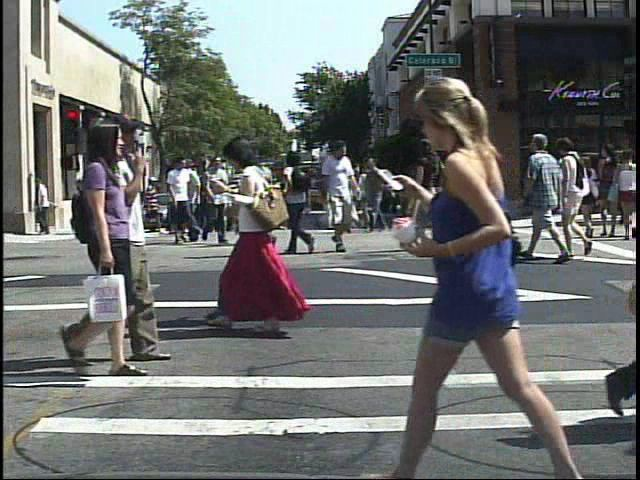person: (359, 65, 589, 480), (43, 109, 154, 385), (210, 134, 304, 335), (112, 108, 167, 372), (244, 131, 289, 333), (553, 132, 603, 261), (524, 131, 566, 266), (240, 137, 284, 262), (455, 144, 500, 256), (323, 140, 366, 254), (284, 150, 324, 258), (232, 150, 271, 247), (197, 153, 234, 249), (165, 156, 203, 243), (572, 147, 605, 243), (413, 134, 448, 182), (142, 173, 162, 242), (70, 182, 91, 232)
